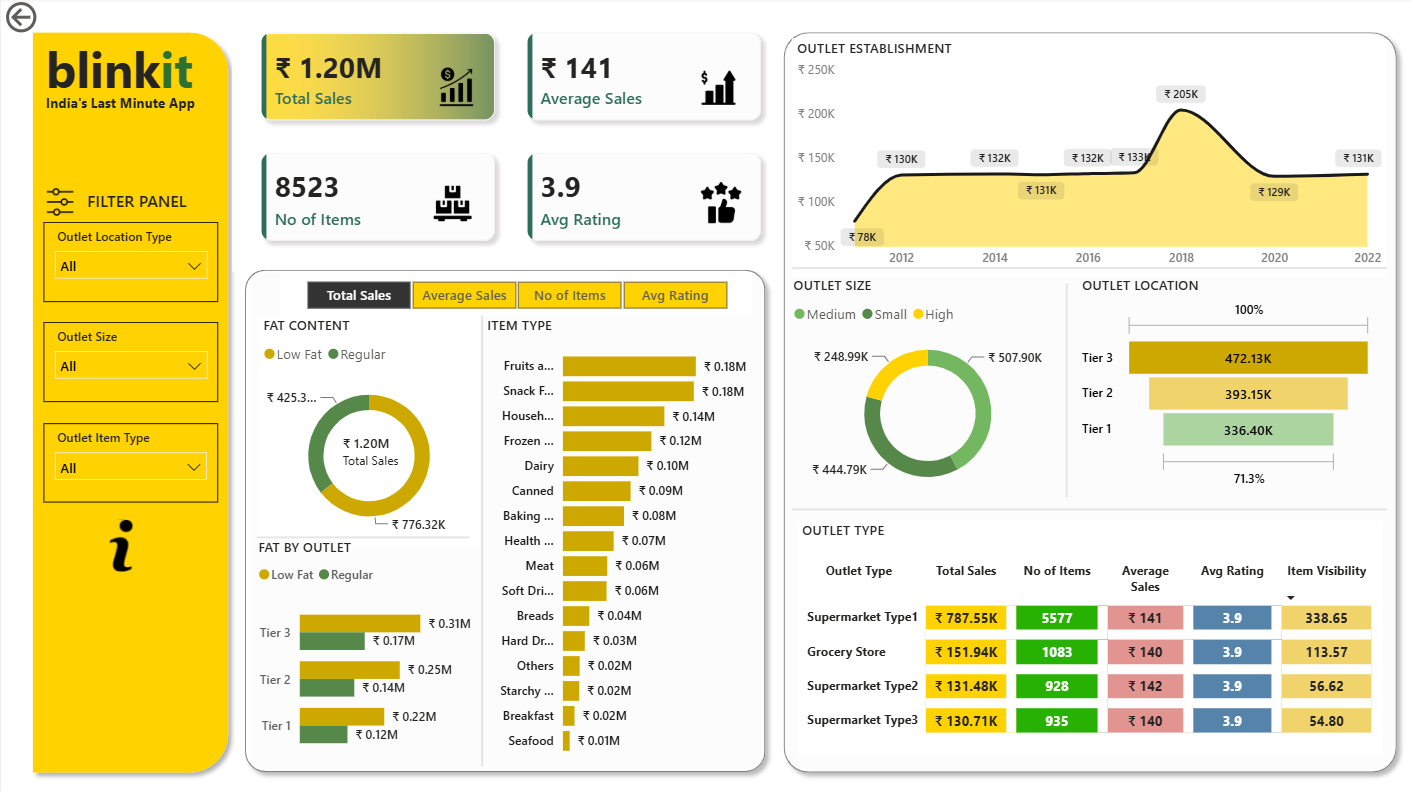

This screenshot's page, from the dashboard's own definition file:
{"tool":"powerbi","page":{"name":"Page 1","canvas":[1400,800],"ordinal":0},"visuals":[{"type":"shape","box":[22.3,25.4,211.8,750.7],"z":0},{"type":"textbox","box":[39,33,175.6,78],"z":1000},{"type":"actionButton","box":[90,513.2,68.7,59.5],"z":1000,"group":"g1"},{"type":"textbox","box":[39,90.1,165.1,34.5],"z":2000},{"type":"cardVisual","fields":{"Data":["BlinkIT Grocery Data.Total Sales","BlinkIT Grocery Data.Average Sales","BlinkIT Grocery Data.No of Items","BlinkIT Grocery Data.Avg Rating"]},"box":[229.2,6.7,553.6,265.4],"z":3000},{"type":"image","box":[426.2,69,48,39],"z":4000},{"type":"image","box":[684.4,72,52.5,36],"z":5000},{"type":"image","box":[418.7,186.1,55.5,37.5],"z":6000},{"type":"image","box":[687.4,183.1,49.5,40.5],"z":7000},{"type":"shape","box":[232.6,261.2,532.8,514.8],"z":8000},{"type":"donutChart","title":"FAT CONTENT","fields":{"Category":["BlinkIT Grocery Data.Item Fat Content"],"Y":["BlinkIT Grocery Data.Total Sales"]},"box":[255.1,315.2,219.1,229.6],"z":9000},{"type":"slicer","fields":{"Values":["Metrics.Metrics"]},"box":[277.7,274.7,465.3,40.5],"z":10000},{"type":"cardVisual","fields":{"Data":["BlinkIT Grocery Data.Total Sales"]},"box":[309.2,411.2,129.1,76.5],"z":11000},{"type":"clusteredBarChart","title":"FAT BY OUTLET","fields":{"Category":["BlinkIT Grocery Data.Outlet Location Type"],"Series":["BlinkIT Grocery Data.Item Fat Content"],"Y":["BlinkIT Grocery Data.Total Sales"]},"box":[249.7,534.4,220.6,229.6],"z":12000},{"type":"shape","box":[253.6,522.3,210.1,25.5],"z":13000},{"type":"shape","box":[469.8,315.2,12,445.8],"z":14000},{"type":"barChart","title":"ITEM TYPE","fields":{"Category":["BlinkIT Grocery Data.Item Type"],"Y":["BlinkIT Grocery Data.Total Sales"]},"box":[475.8,315.2,267.2,445.8],"z":15000},{"type":"shape","box":[765.4,25.5,624.4,750.4],"z":16000},{"type":"lineChart","title":"OUTLET ESTABLISHMENT","fields":{"Category":["BlinkIT Grocery Data.Outlet Establishment Year"],"Y":["BlinkIT Grocery Data.Total Sales"]},"box":[783.5,40.5,588.3,235.6],"z":17000},{"type":"donutChart","title":"OUTLET SIZE","fields":{"Category":["BlinkIT Grocery Data.Outlet Size"],"Y":["BlinkIT Grocery Data.Total Sales"]},"box":[778.8,276.1,276.1,225.2],"z":18000},{"type":"shape","box":[1045.6,282.8,18.8,211.8],"z":19000},{"type":"shape","box":[782.8,262.7,588.5,12.1],"z":20000},{"type":"shape","box":[782.8,501.3,588.5,12.1],"z":21000},{"type":"funnel","title":"OUTLET LOCATION","fields":{"Category":["BlinkIT Grocery Data.Outlet Location Type"],"Y":["Sum(BlinkIT Grocery Data.Sales)"]},"box":[1064.3,276.1,297.6,215.8],"z":22000},{"type":"pivotTable","title":"OUTLET TYPE","fields":{"Rows":["BlinkIT Grocery Data.Outlet Type"],"Values":["BlinkIT Grocery Data.Total Sales","BlinkIT Grocery Data.No of Items","BlinkIT Grocery Data.Average Sales","BlinkIT Grocery Data.Avg Rating","Sum(BlinkIT Grocery Data.Item Visibility)"]},"box":[788.2,518.8,579.1,231.9],"z":23000},{"type":"actionButton","box":[0,0,100,40],"z":24000},{"type":"slicer","fields":{"Values":["BlinkIT Grocery Data.Outlet Location Type"]},"box":[41.6,222.5,172.9,79.1],"z":25000},{"type":"slicer","fields":{"Values":["BlinkIT Grocery Data.Outlet Size"]},"box":[41.6,321.7,172.9,79.1],"z":26000},{"type":"slicer","fields":{"Values":["BlinkIT Grocery Data.Item Type"]},"box":[42.1,422.2,172.4,78.7],"z":27000},{"type":"textbox","box":[80.4,185,113.9,36.2],"z":28000},{"type":"image","box":[30.8,187.7,55,29.5],"z":32000},{"type":"group","id":"g1","title":"Info popup","box":[41.4,513.2,171.8,206.8],"z":33000}]}

Visuals, with their boxes in screenshot pixels (x1, y1, x2, y2), scaled from the page's 1400x800 canvas onto the 1412x792 screenshot:
shape: rect(22, 25, 236, 768)
textbox: rect(39, 33, 216, 110)
actionButton: rect(91, 508, 160, 567)
textbox: rect(39, 89, 206, 123)
cardVisual - BlinkIT Grocery Data.Total Sales x BlinkIT Grocery Data.Average Sales: rect(231, 7, 790, 269)
image: rect(430, 68, 478, 107)
image: rect(690, 71, 743, 107)
image: rect(422, 184, 478, 221)
image: rect(693, 181, 743, 221)
shape: rect(235, 259, 772, 768)
"FAT CONTENT" donutChart: rect(257, 312, 478, 539)
slicer - Metrics.Metrics: rect(280, 272, 749, 312)
cardVisual - BlinkIT Grocery Data.Total Sales: rect(312, 407, 442, 483)
"FAT BY OUTLET" clusteredBarChart: rect(252, 529, 474, 756)
shape: rect(256, 517, 468, 542)
shape: rect(474, 312, 486, 753)
"ITEM TYPE" barChart: rect(480, 312, 749, 753)
shape: rect(772, 25, 1402, 768)
"OUTLET ESTABLISHMENT" lineChart: rect(790, 40, 1384, 273)
"OUTLET SIZE" donutChart: rect(785, 273, 1064, 496)
shape: rect(1055, 280, 1074, 490)
shape: rect(790, 260, 1383, 272)
shape: rect(790, 496, 1383, 508)
"OUTLET LOCATION" funnel: rect(1073, 273, 1374, 487)
"OUTLET TYPE" pivotTable: rect(795, 514, 1379, 743)
actionButton: rect(0, 0, 101, 40)
slicer - BlinkIT Grocery Data.Outlet Location Type: rect(42, 220, 216, 299)
slicer - BlinkIT Grocery Data.Outlet Size: rect(42, 318, 216, 397)
slicer - BlinkIT Grocery Data.Item Type: rect(42, 418, 216, 496)
textbox: rect(81, 183, 196, 219)
image: rect(31, 186, 87, 215)
"Info popup" group: rect(42, 508, 215, 713)
